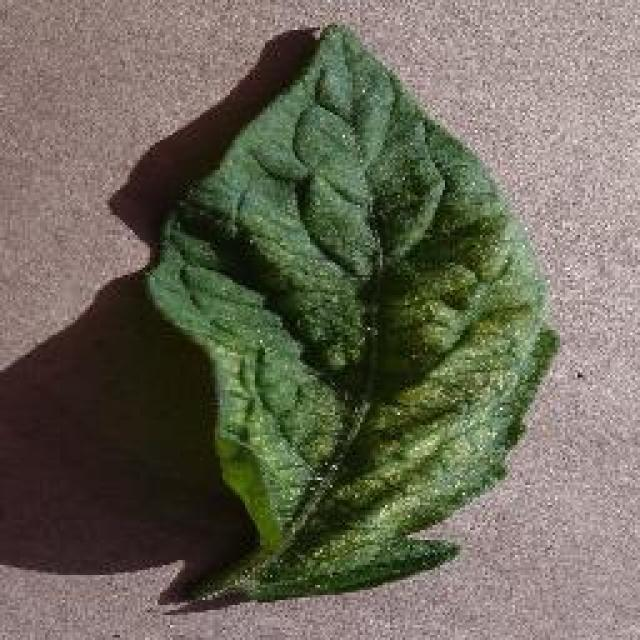Tomato___Spider_mites Two-spotted_spider_mite: (145, 25, 555, 600)
